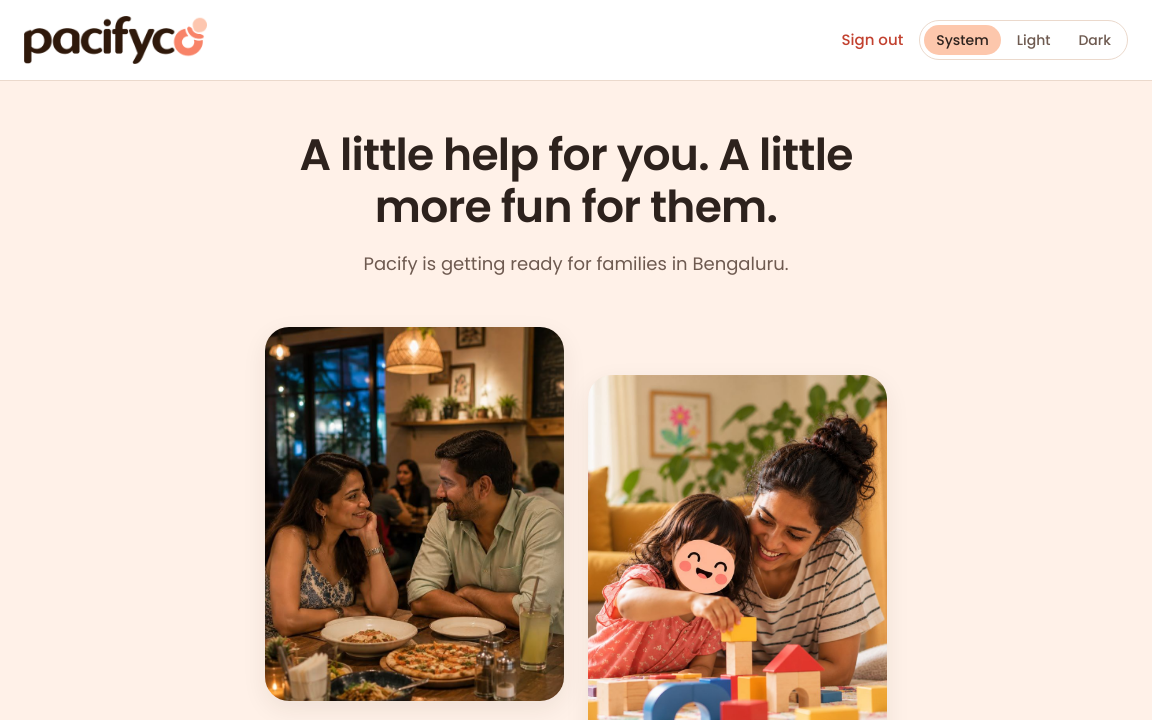
signed-in state › signing out forgets the account and offers sign-in again
Click the button "Sign out": (872, 40) [842,29,903,51]
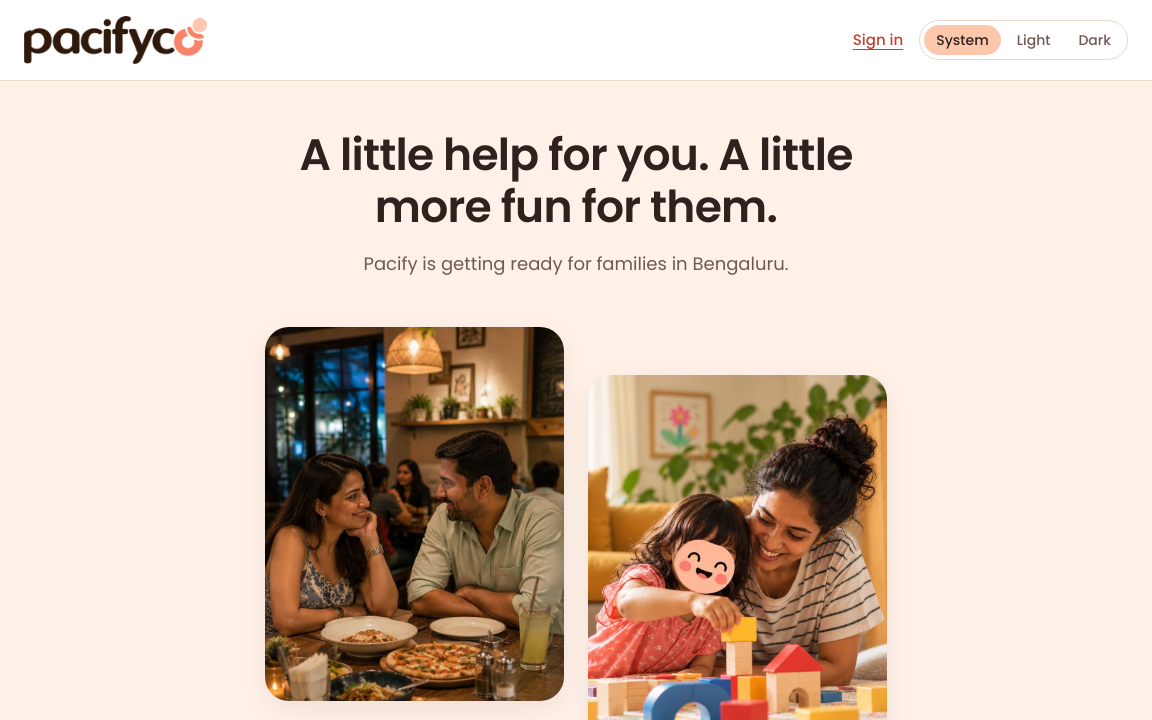
Expected: the link "Sign in" is shown, [853,29,903,51]
